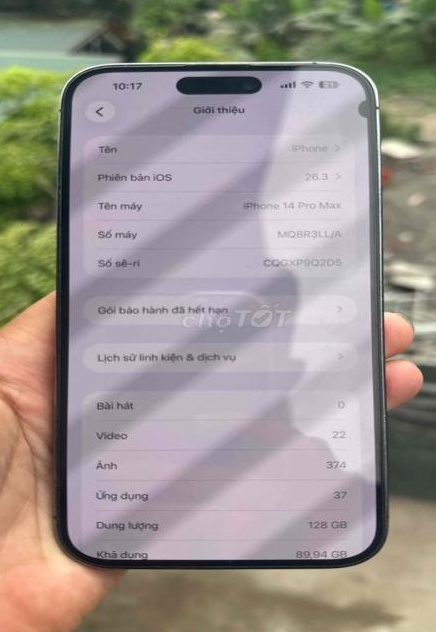screen_defect: (348, 89, 387, 128)
